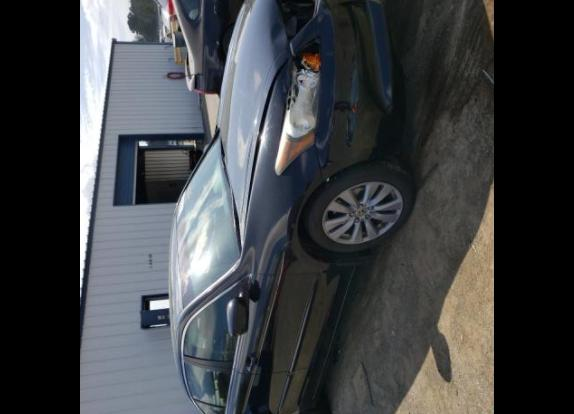Broken part: (244, 52, 290, 233), (276, 38, 319, 173), (272, 0, 293, 56)
Dent: (269, 18, 285, 47)
Missing part: (277, 0, 319, 42)
